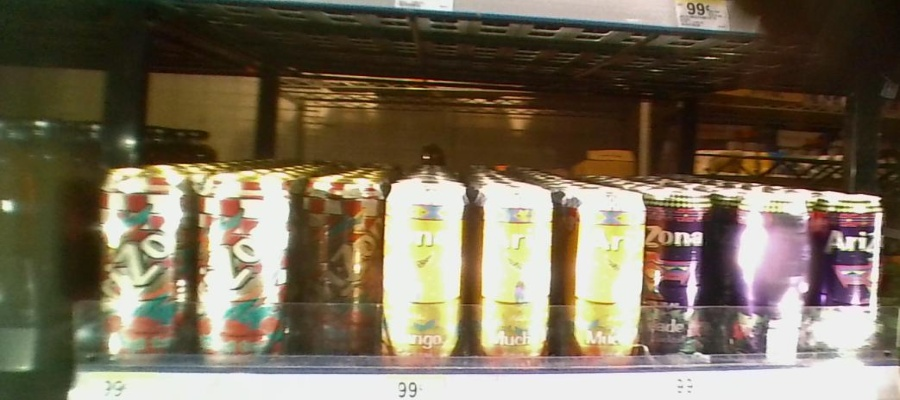bottle: (92, 155, 192, 368), (196, 150, 286, 372), (470, 167, 558, 371), (383, 168, 468, 364), (562, 169, 647, 365), (302, 163, 383, 363), (726, 179, 811, 362), (813, 180, 883, 357), (645, 175, 708, 361)
